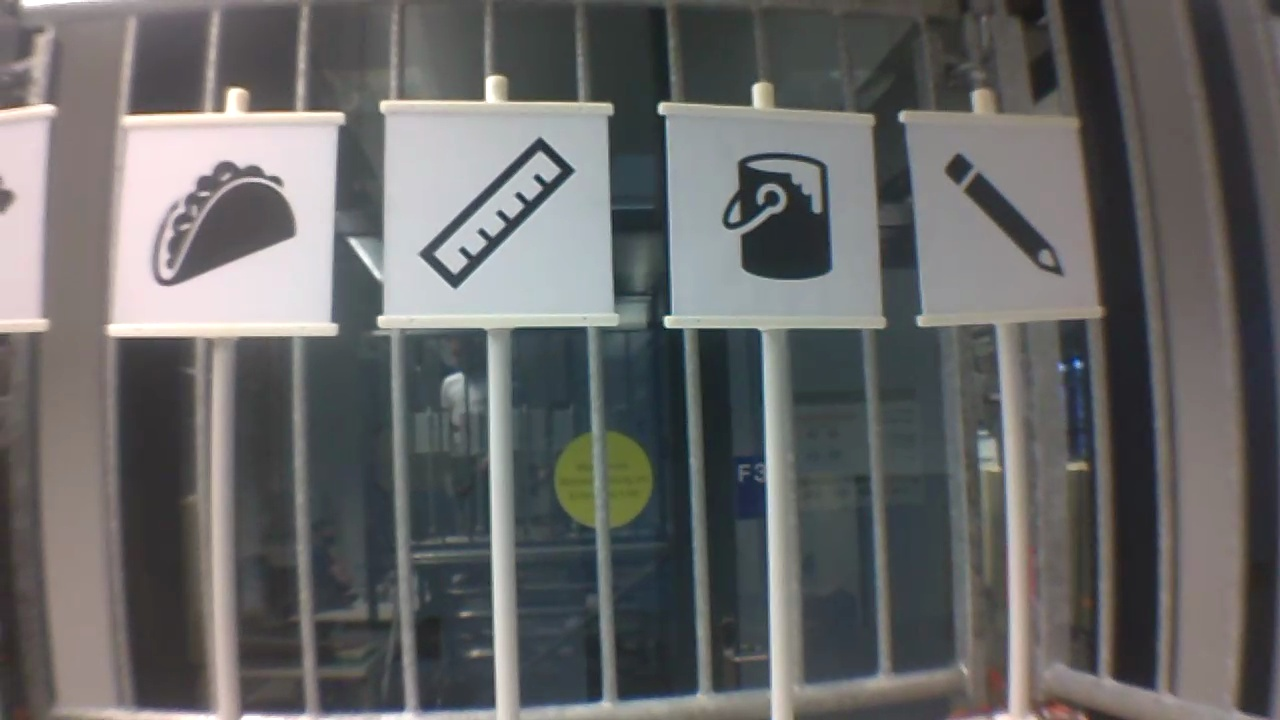bucket: (718, 149, 837, 282)
pencil: (936, 148, 1067, 279)
ruler: (412, 130, 581, 297)
taco: (148, 153, 299, 291)
